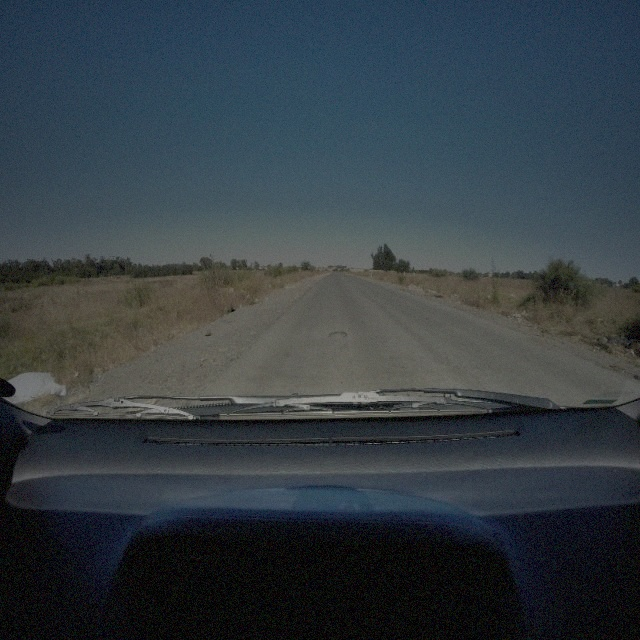pothole: (327, 329, 347, 342)
